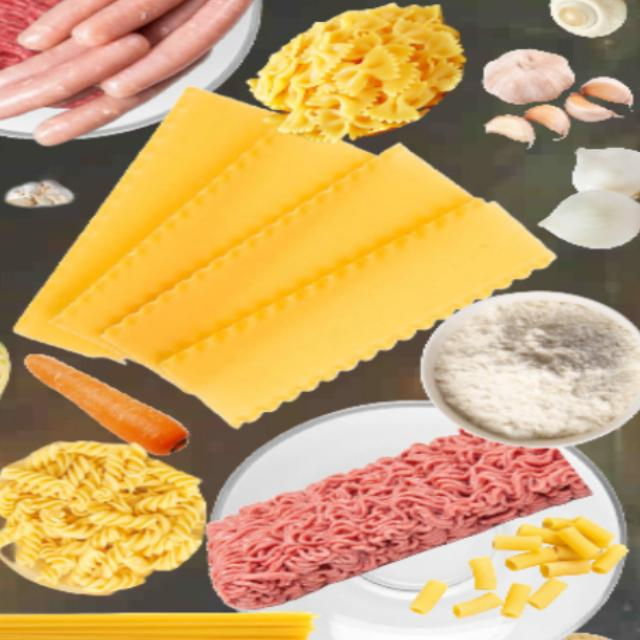Flour: (432, 296, 639, 441)
